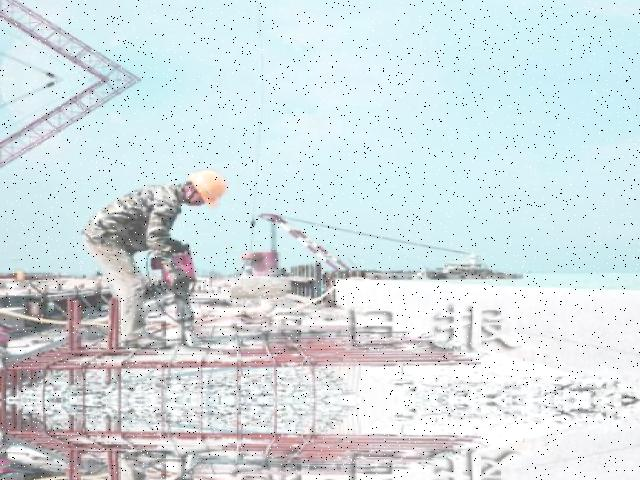Helmet: (182, 166, 232, 211)
